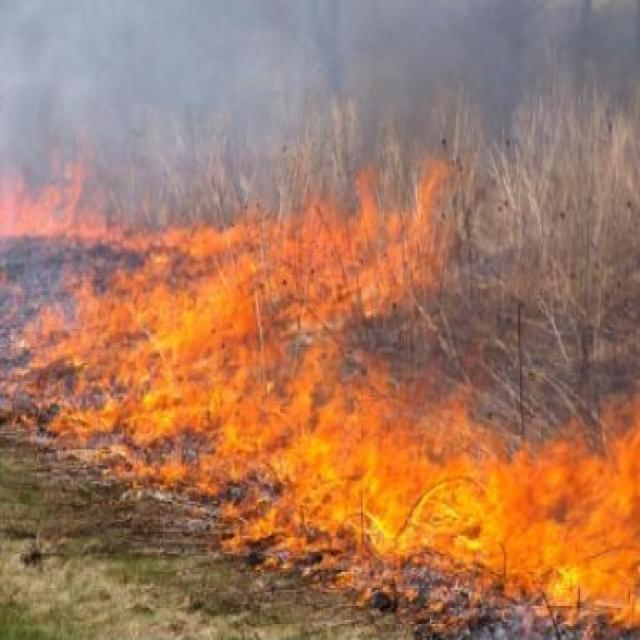Fire: (2, 165, 632, 623)
Smoke: (11, 18, 588, 154)
